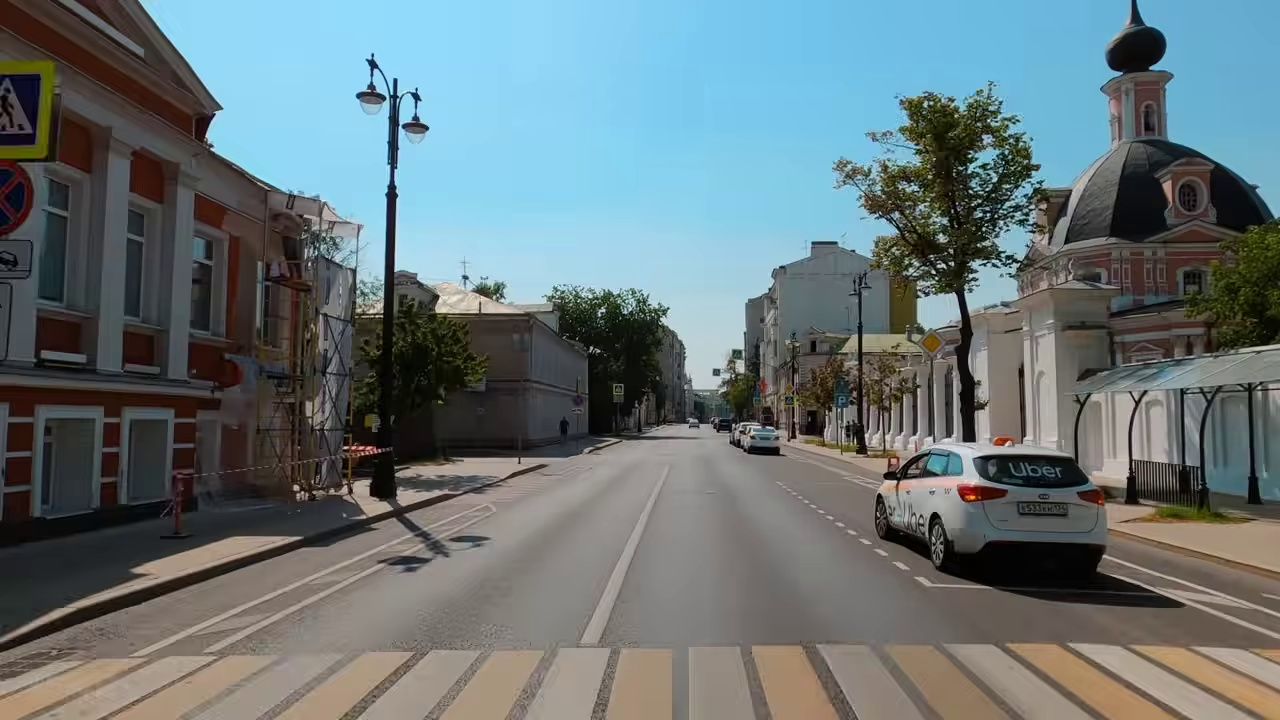apagada: (355, 78, 432, 146), (352, 56, 398, 115), (352, 80, 410, 117), (351, 82, 390, 113), (394, 114, 432, 144), (358, 53, 384, 80)
